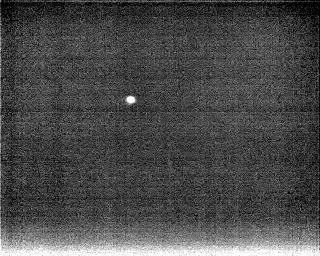AIRPLANE: (124, 94, 138, 107)
